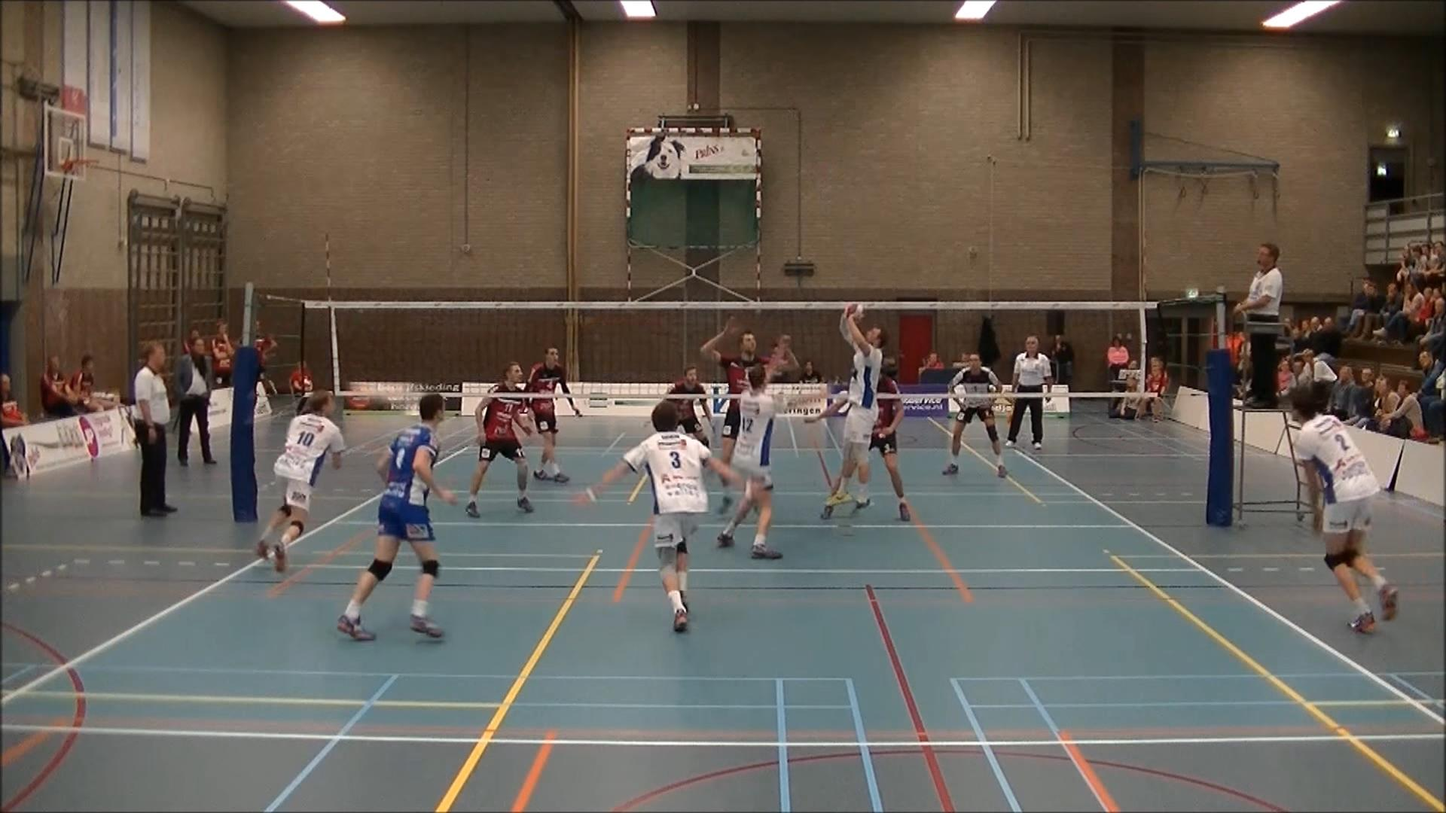Player: (579, 400, 743, 632), (337, 393, 456, 639), (1289, 386, 1397, 632), (256, 390, 344, 571), (701, 317, 797, 462), (716, 367, 785, 559), (465, 362, 533, 517), (943, 353, 1007, 477), (526, 348, 581, 483), (870, 358, 911, 521), (667, 366, 711, 446)
Set: (830, 300, 886, 526)
ball: (835, 294, 867, 322)
